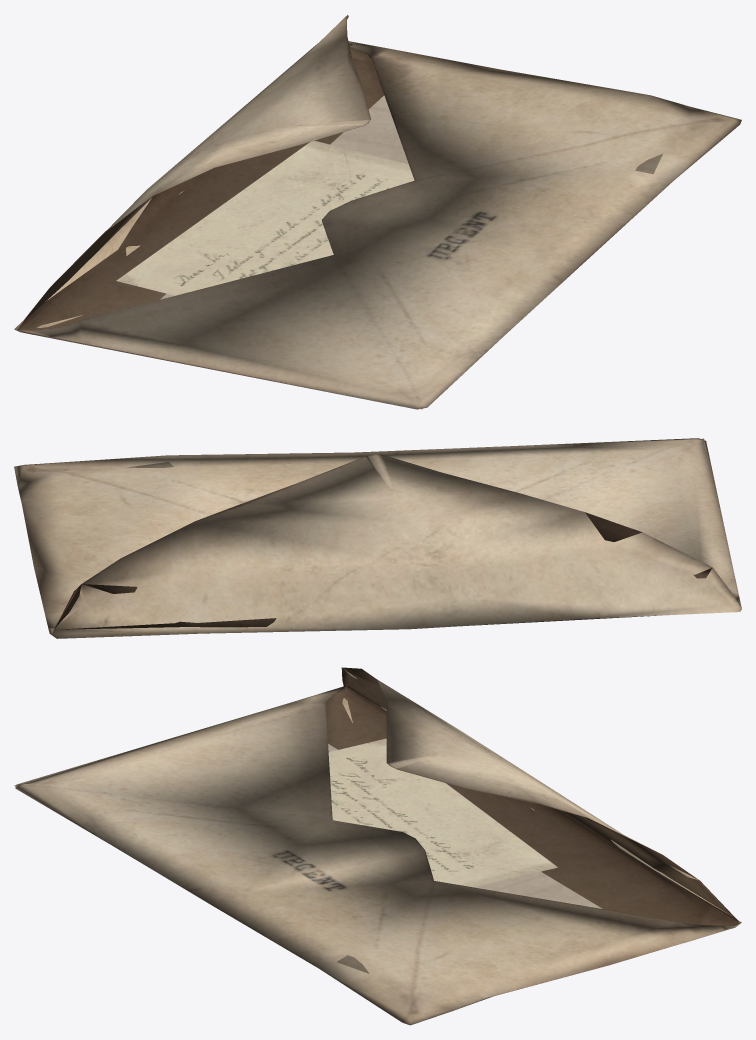
File: Opened Envelope B.fbx
3 views of the same model, one above another, from view 1: azimuth 30°, elevation 25°; view 2: azimuth 150°, elevation 25°; view 3: azimuth 270°, elevation 25° (orthographic). The views are drawn at different scales.
Visible parts, largest first — view 1: Opened Envelope B; view 2: Opened Envelope B; view 3: Opened Envelope B.
Boxes of the visible parts, left/top/right/bottom form: Opened Envelope B: left=14, top=15, right=741, bottom=409; Opened Envelope B: left=14, top=438, right=741, bottom=638; Opened Envelope B: left=14, top=667, right=741, bottom=1025.
Size of the model in its own units: 19.34 by 2.56 by 17.65.
Materials: 1 (1 with a texture image).
